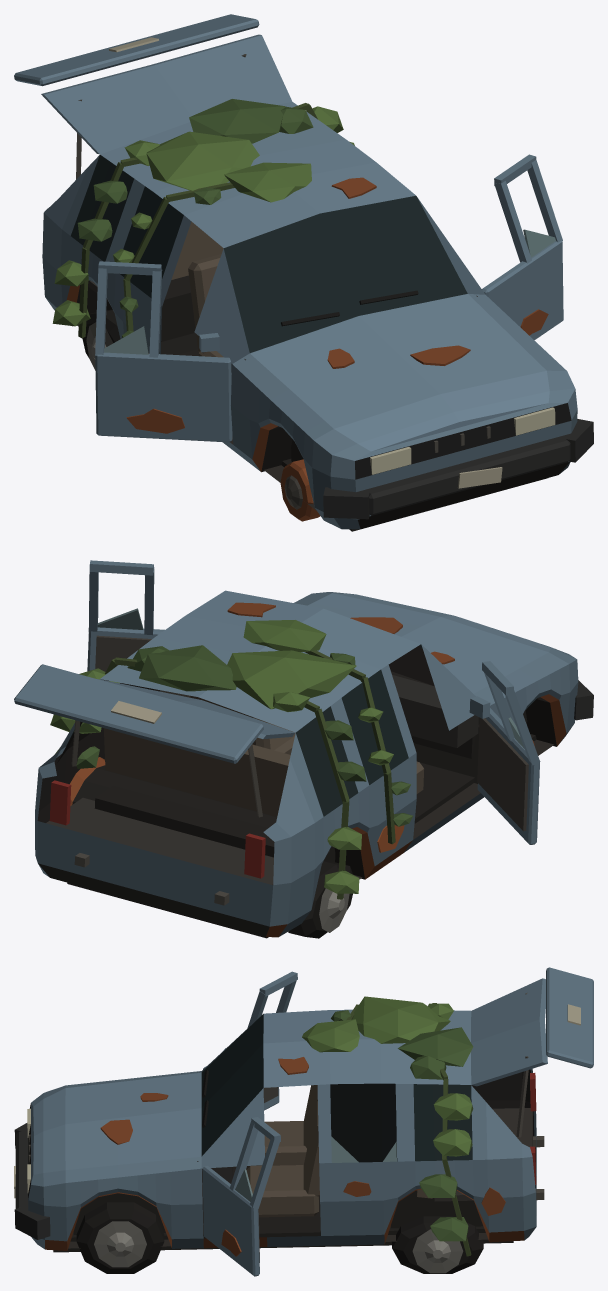
File: carro_abandonado_2_aberto.glb
The picture shows the model from 3 angles, top to bottom: view 1: azimuth 30°, elevation 25°; view 2: azimuth 150°, elevation 25°; view 3: azimuth 270°, elevation 25°; orthographic projection. The views are drawn at different scales.
Parts seen in each view (by area): view 1: carro_abandonado_2_aberto.001; view 2: carro_abandonado_2_aberto.001; view 3: carro_abandonado_2_aberto.001.
Part boxes in pixels (x1,y1,x2,y2): carro_abandonado_2_aberto.001: (14,14,593,531); carro_abandonado_2_aberto.001: (14,560,593,938); carro_abandonado_2_aberto.001: (14,967,593,1276).
Size of the model in its own units: 2.8 by 1.52 by 3.65.
